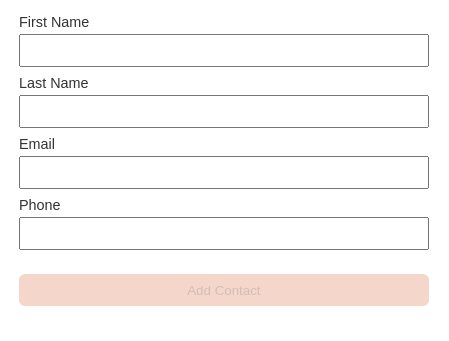
Test: MyForm component › Error displayed if phone is incorrect format
Type "Patrick" into the field labelled "First Name" at [224, 50], box [19,34,429,67]
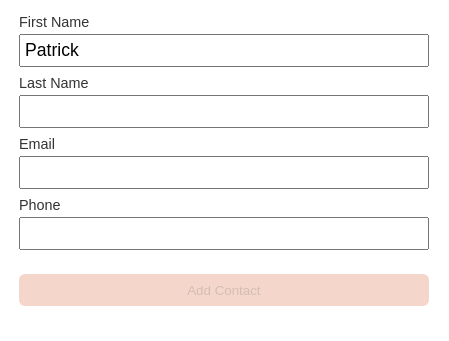
Type "McCullough" into the field labelled "Last Name" at [224, 112], box [19,95,429,128]
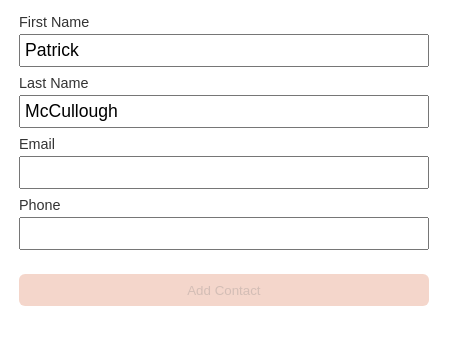
Type "pmccullough@brainstation.io" into the field labelled "Email" at [224, 172], box [19,156,429,189]
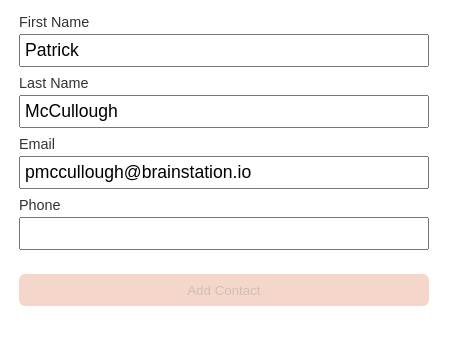
Type "(917) 224-224" into the field labelled "Phone" at [224, 234], box [19,217,429,250]
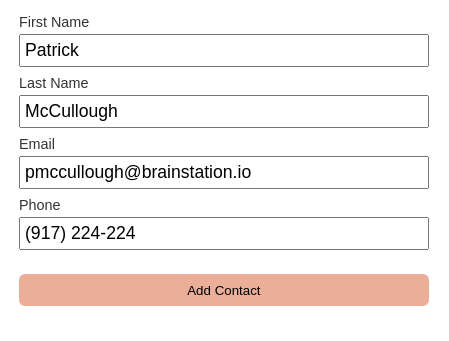
Click the button "Add Contact" at [224, 290], box [19,274,429,306]
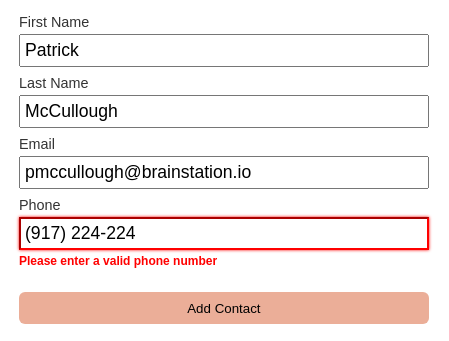
Check: the text "Please enter a valid phone number" is shown, box [19,254,217,268]
